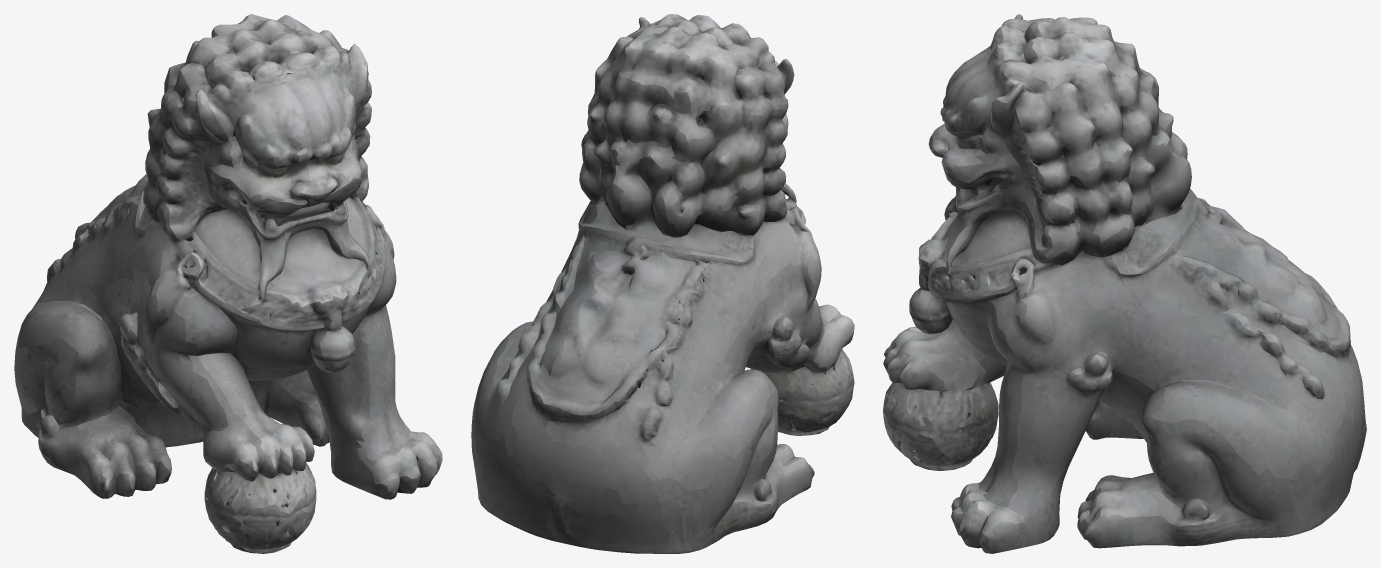
The model's file is stone-lion.glb.
The picture shows the model from 3 angles, left to right: view 1: azimuth 30°, elevation 25°; view 2: azimuth 150°, elevation 25°; view 3: azimuth 270°, elevation 25°; orthographic projection. The views are drawn at different scales.
Parts seen in each view (by area): view 1: geometry_0; view 2: geometry_0; view 3: geometry_0.
Part boxes in pixels (x1,y1,x2,y2): geometry_0: (14,14,442,553); geometry_0: (471,14,854,553); geometry_0: (883,14,1366,553).
Bounding box in the file's own units: 0.685 × 1 × 0.9502.
Materials: 1 (1 with a texture image).
